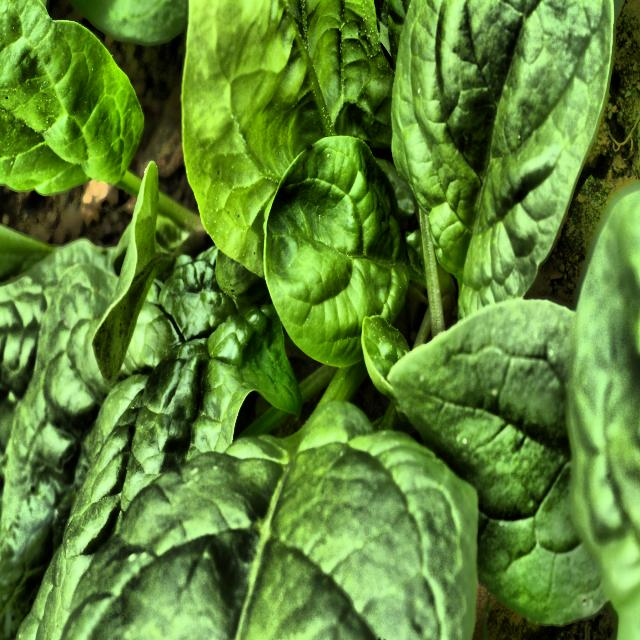spinach: (17, 11, 595, 627)
